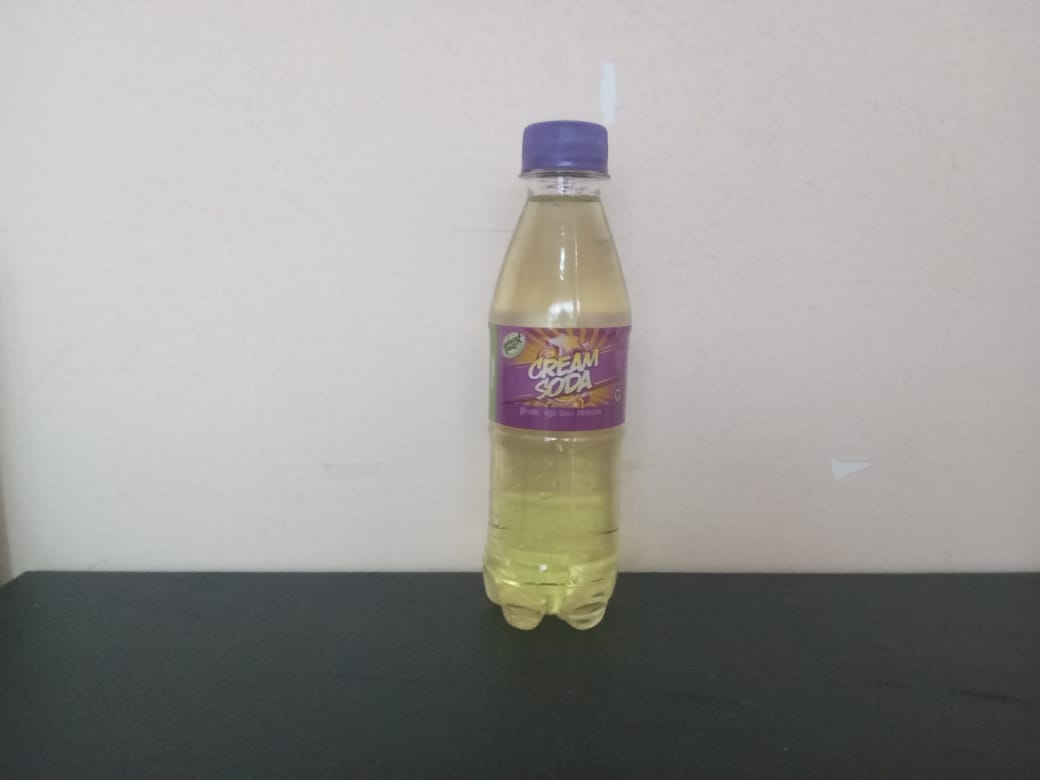Xs: (470, 118, 640, 645)
